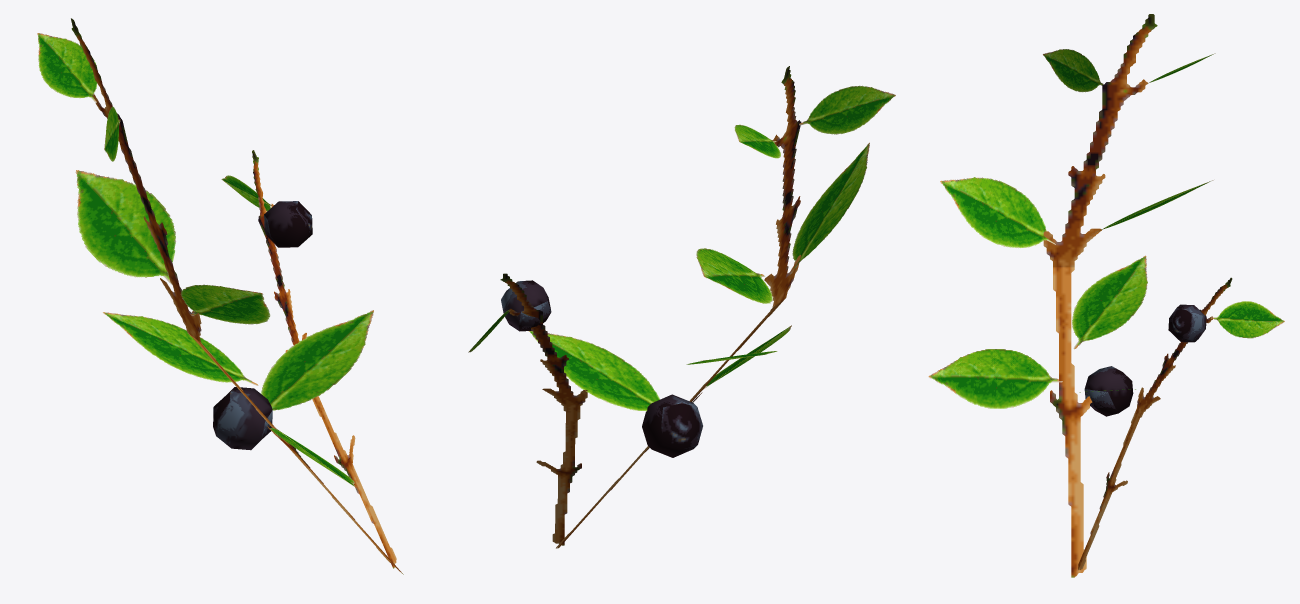
File: fp_blueberrybush.glb
3 renders of one model, left to right at view 1: azimuth 30°, elevation 25°; view 2: azimuth 150°, elevation 25°; view 3: azimuth 270°, elevation 25°, orthographic. The views are drawn at different scales.
Parts seen in each view (by area): view 1: _MeshInstance3D_21; view 2: _MeshInstance3D_21; view 3: _MeshInstance3D_21.
Part boxes in pixels (x1,y1,x2,y2): _MeshInstance3D_21: [37, 18, 403, 574]; _MeshInstance3D_21: [468, 66, 895, 548]; _MeshInstance3D_21: [928, 14, 1284, 577].
Bounding box in the file's own units: 0.3146 × 0.4849 × 0.3448.
1 material, 1 textured.
